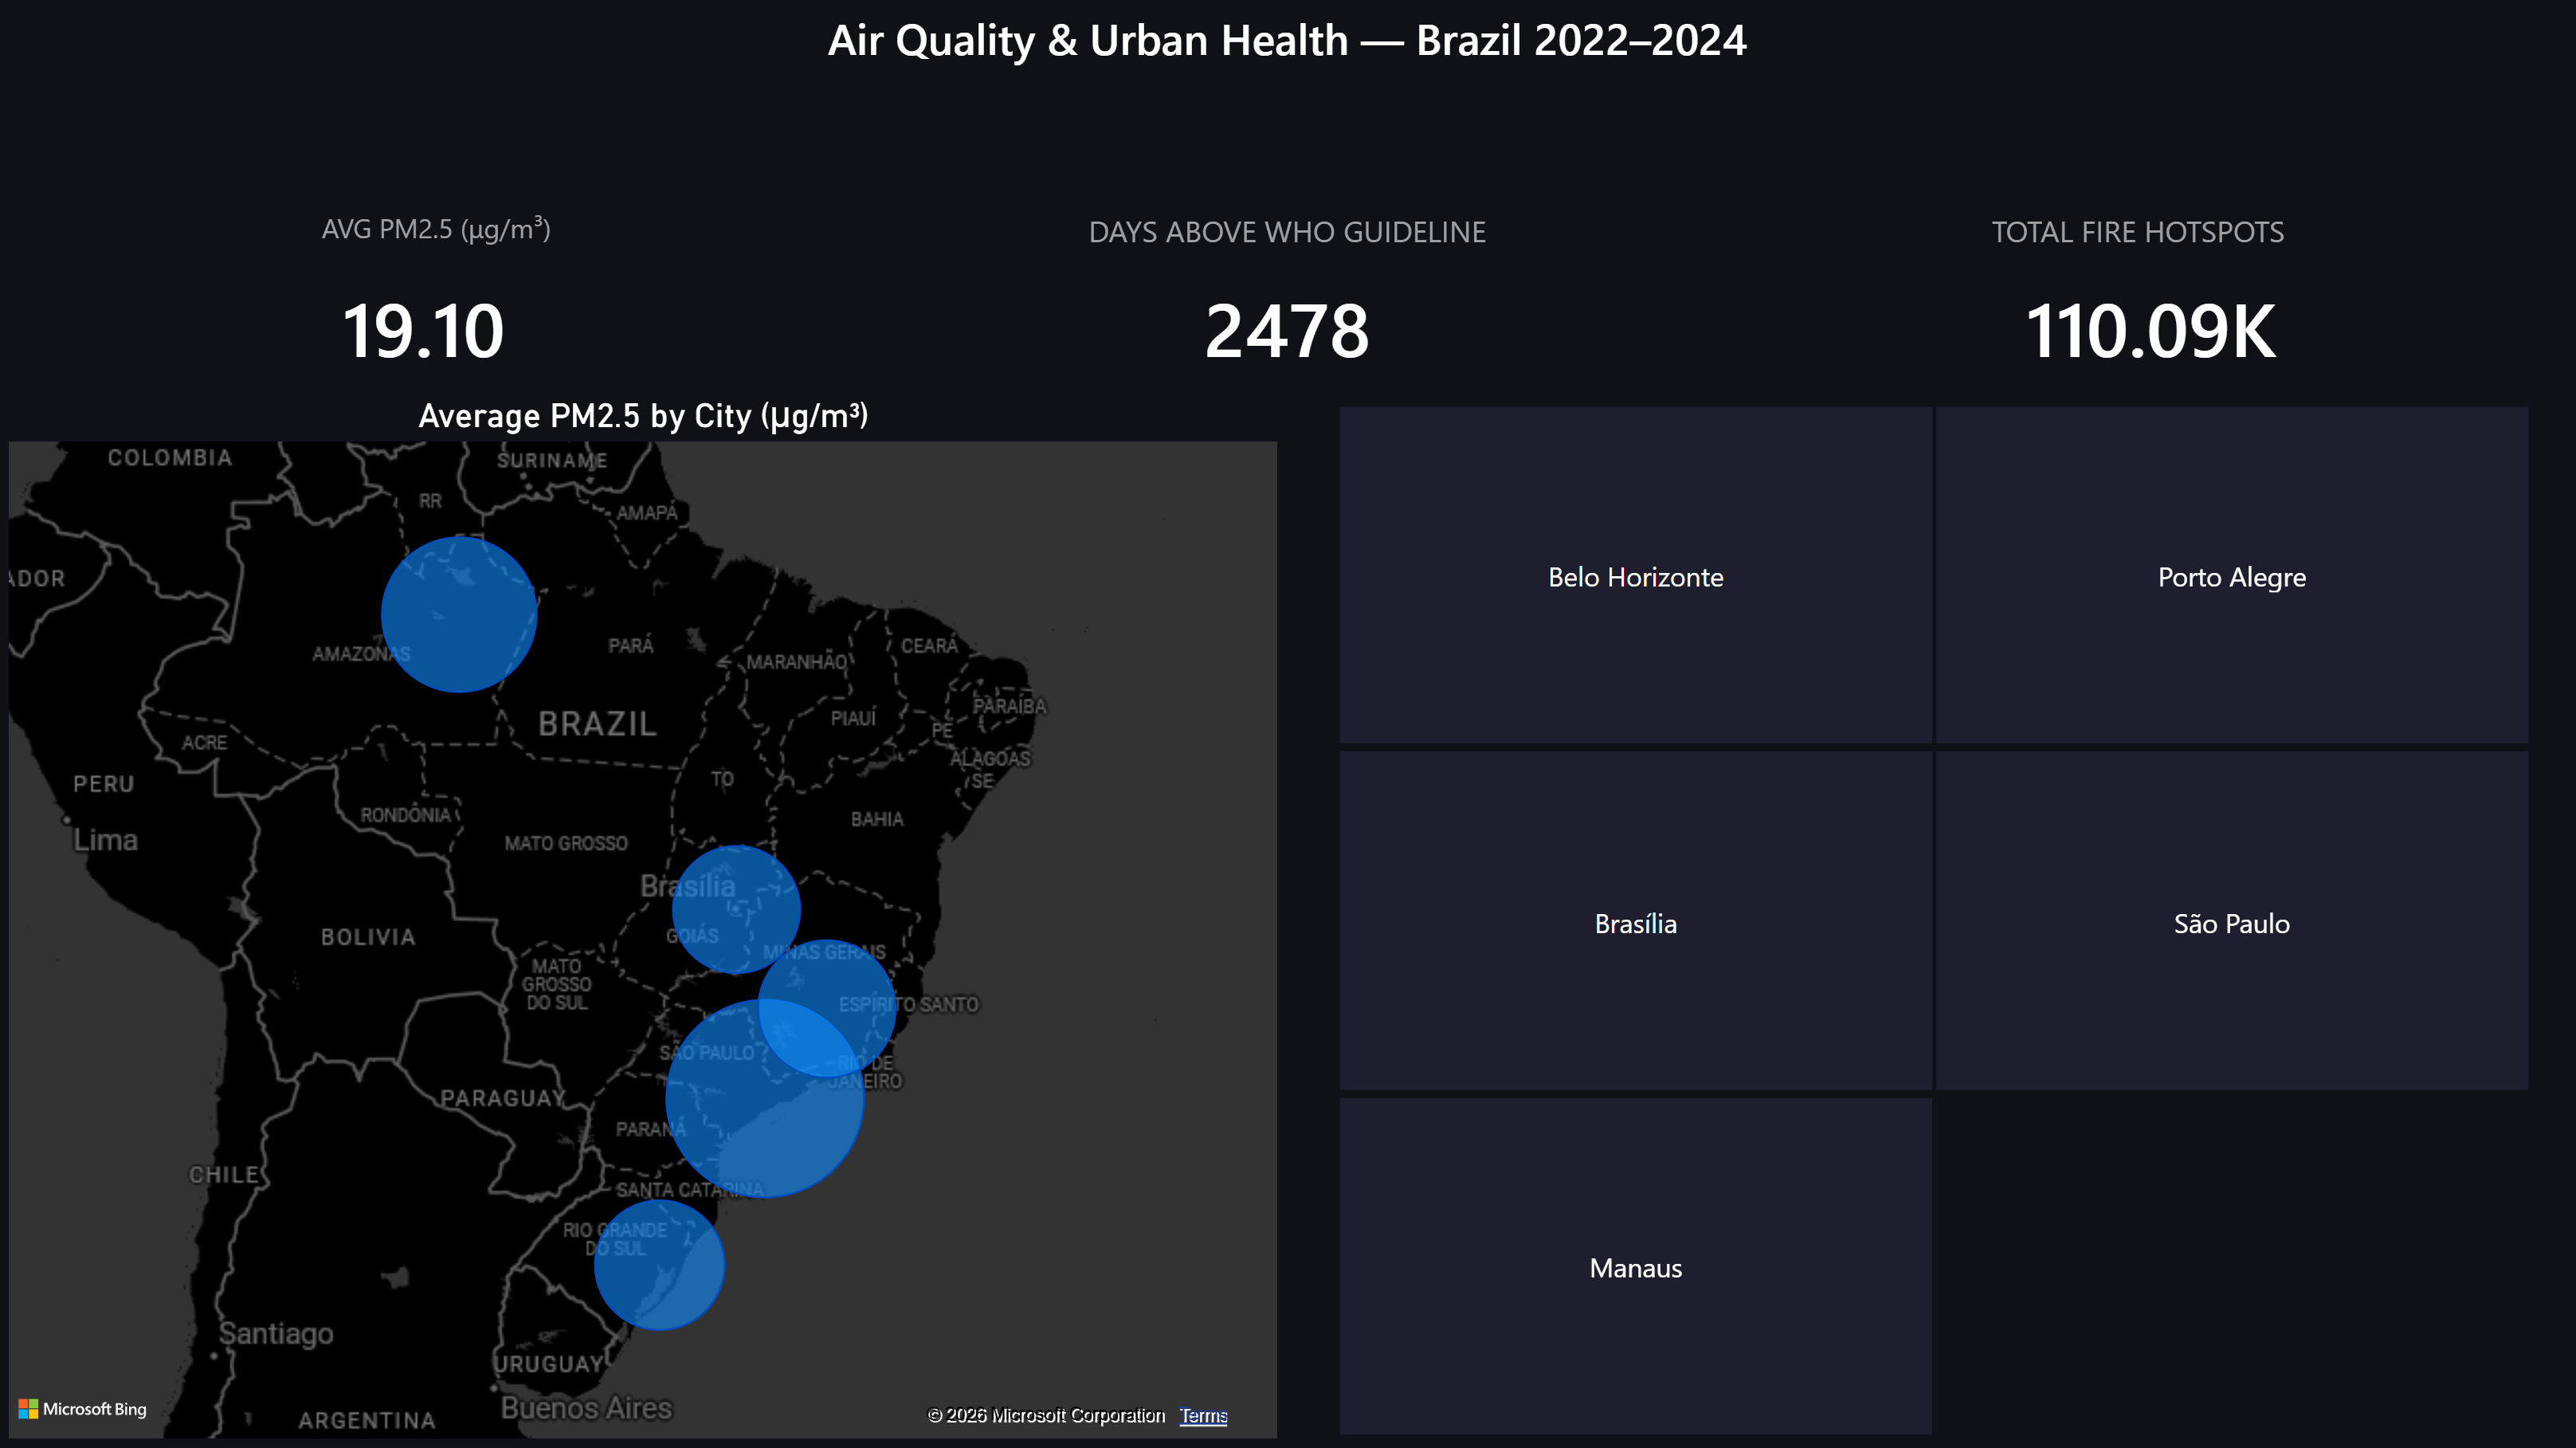

Layout of this report page (visuals, bound fields, positions):
{"tool":"powerbi","page":{"name":"Overview","canvas":[1280,720],"ordinal":0},"visuals":[{"type":"card","fields":{"Values":["Avg(integrated.pm25_ugm3)"]},"box":[0,130.4,422.5,65.5],"z":0},{"type":"card","fields":{"Values":["integrated.Days Above WHO Guideline"]},"box":[422.5,130.4,435,65.5],"z":1000},{"type":"card","fields":{"Values":["integrated.Total Hotspots"]},"box":[857.5,130.4,422.5,65.5],"z":2000},{"type":"textbox","box":[0,100,435,30.1],"z":3000},{"type":"textbox","box":[422.5,100,435,30.1],"z":4000},{"type":"textbox","box":[845,100,435,30.1],"z":5000},{"type":"textbox","box":[0,0,1280,100.2],"z":6000},{"type":"map","title":"Average PM2.5 by City (μg/m³)","fields":{"Size":["Avg(integrated.pm25_ugm3)"],"Category":["Table.city"]},"box":[0,195.9,640,524.1],"z":7000},{"type":"slicer","fields":{"Values":["integrated.city"]},"box":[640,195.9,640,524.1],"z":8000}]}

Visuals, with their boxes in screenshot pixels (x1, y1, x2, y2), scaled from the page's 1280x720 canvas onto the 2576x1448 screenshot:
card - Avg(integrated.pm25_ugm3): l=0, t=262, r=850, b=394
card - integrated.Days Above WHO Guideline: l=850, t=262, r=1726, b=394
card - integrated.Total Hotspots: l=1726, t=262, r=2575, b=394
textbox: l=0, t=201, r=876, b=261
textbox: l=850, t=201, r=1726, b=261
textbox: l=1700, t=201, r=2575, b=261
textbox: l=0, t=0, r=2575, b=202
"Average PM2.5 by City (μg/m³)" map: l=0, t=394, r=1288, b=1447
slicer - integrated.city: l=1288, t=394, r=2575, b=1447
